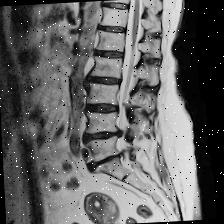disc: (92, 45, 124, 62), (97, 22, 128, 38), (99, 0, 132, 12)
hdisc: (76, 150, 130, 174), (82, 98, 122, 118), (79, 127, 124, 144), (90, 74, 124, 90)
